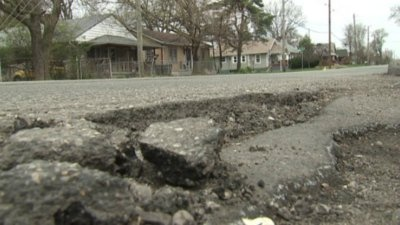pothole: (73, 68, 381, 208)
